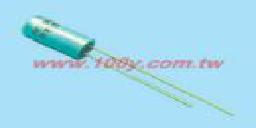Electrolytic Capacitor: (17, 8, 243, 124)
